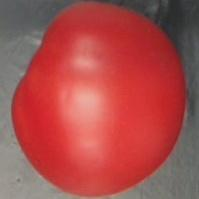unripe: (8, 0, 190, 199)
